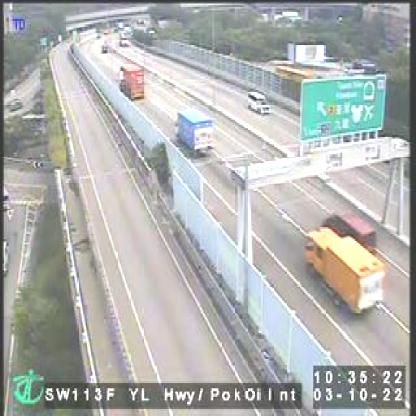Car: (321, 210, 375, 253), (247, 90, 269, 113)
Truck: (304, 227, 384, 316), (174, 107, 212, 151), (118, 64, 144, 97)
